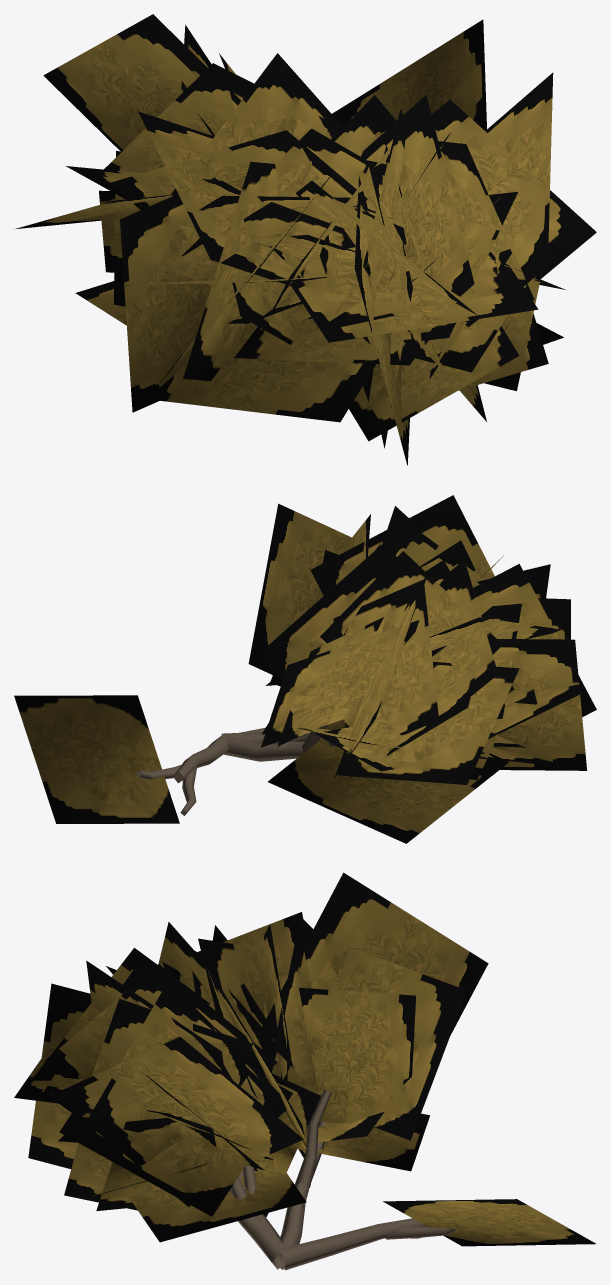
Rendered from arctic_shrub_1_burnt1.glb.
3 views of the same model, one above another, from view 1: azimuth 30°, elevation 25°; view 2: azimuth 150°, elevation 25°; view 3: azimuth 270°, elevation 25° (orthographic). The views are drawn at different scales.
Visible parts, largest first — view 1: arctic_shrub_1_burnt1; view 2: arctic_shrub_1_burnt1; view 3: arctic_shrub_1_burnt1.
Part boxes in pixels (x1,y1,x2,y2): arctic_shrub_1_burnt1: [14, 14, 596, 465]; arctic_shrub_1_burnt1: [14, 495, 596, 843]; arctic_shrub_1_burnt1: [14, 872, 595, 1270].
Size of the model in its own units: 1.51 by 0.8774 by 1.67.
2 materials, 1 textured.
